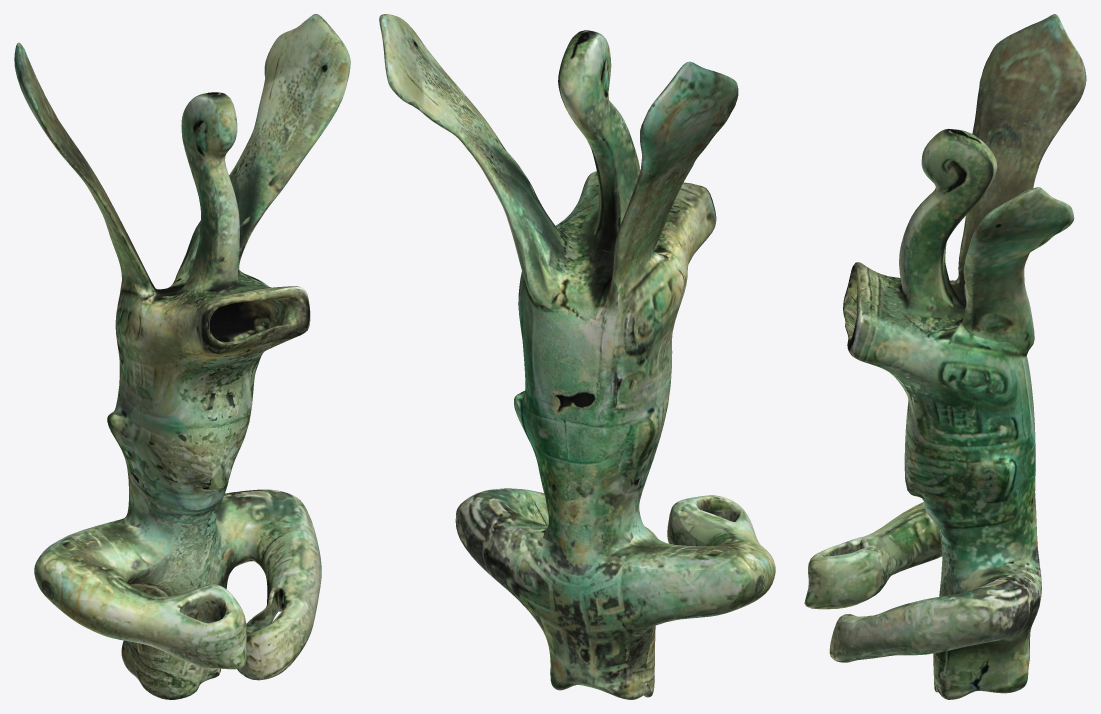
The model's file is shoushouguan_renxiang.glb.
3 views of the same model, side by side, from view 1: azimuth 30°, elevation 25°; view 2: azimuth 150°, elevation 25°; view 3: azimuth 270°, elevation 25° (orthographic). The views are drawn at different scales.
Visible parts, largest first — view 1: 000-0-0_Material.001_0; view 2: 000-0-0_Material.001_0; view 3: 000-0-0_Material.001_0.
Part boxes in pixels (x1,y1,x2,y2): 000-0-0_Material.001_0: [14, 14, 350, 699]; 000-0-0_Material.001_0: [379, 14, 775, 699]; 000-0-0_Material.001_0: [804, 14, 1086, 699].
Size of the model in its own units: 64.24 by 124 by 50.42.
Materials: 1 (1 with a texture image).
